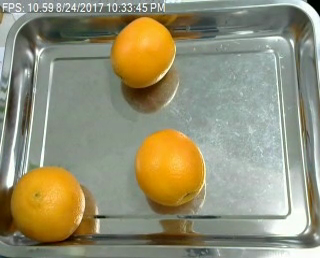Orange: (134, 127, 208, 207), (10, 165, 84, 243), (108, 14, 175, 88)
